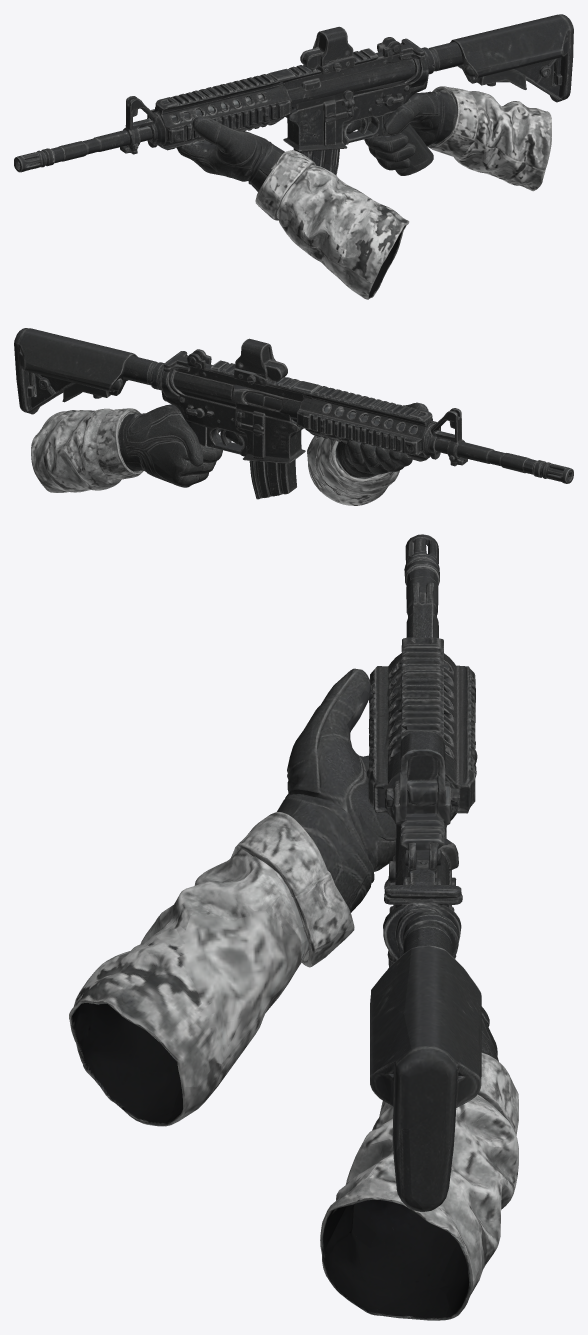
The model's file is rifle.glb.
The picture shows the model from 3 angles, top to bottom: view 1: azimuth 30°, elevation 25°; view 2: azimuth 150°, elevation 25°; view 3: azimuth 270°, elevation 25°; orthographic projection. The views are drawn at different scales.
Parts seen in each view (by area): view 1: output_unwrapped; view 2: output_unwrapped; view 3: output_unwrapped.
Part boxes in pixels (x1=…): output_unwrapped: x1=14, y1=14, x2=573, y2=299; output_unwrapped: x1=14, y1=328, x2=573, y2=505; output_unwrapped: x1=69, y1=534, x2=518, y2=1320.
Bounding box in the file's own units: 1.9 × 0.6806 × 0.6739.
1 material, 1 textured.
